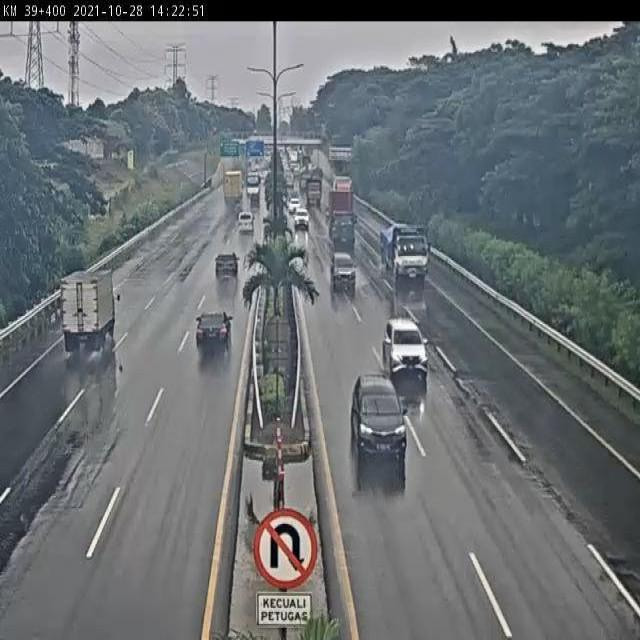truck-l-: (381, 222, 433, 282)
truck-s-: (60, 266, 119, 354)
truck-xl-: (326, 187, 359, 248)
